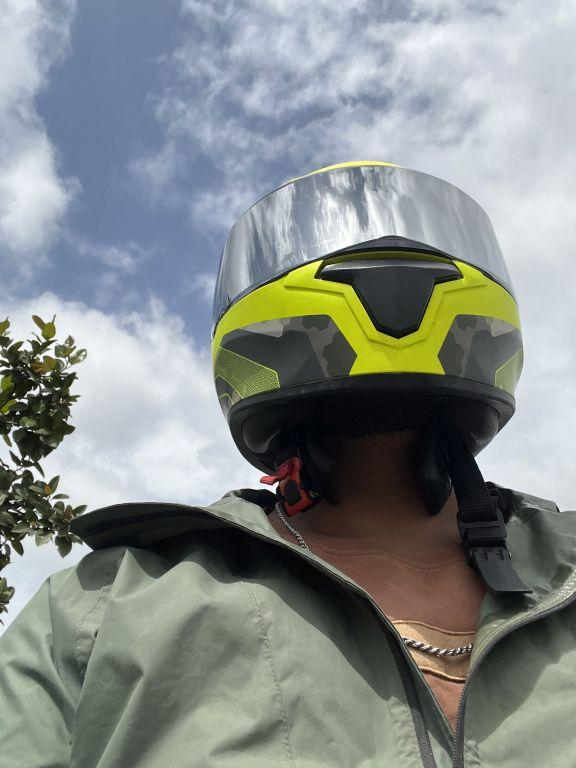helmet: (205, 142, 532, 466)
